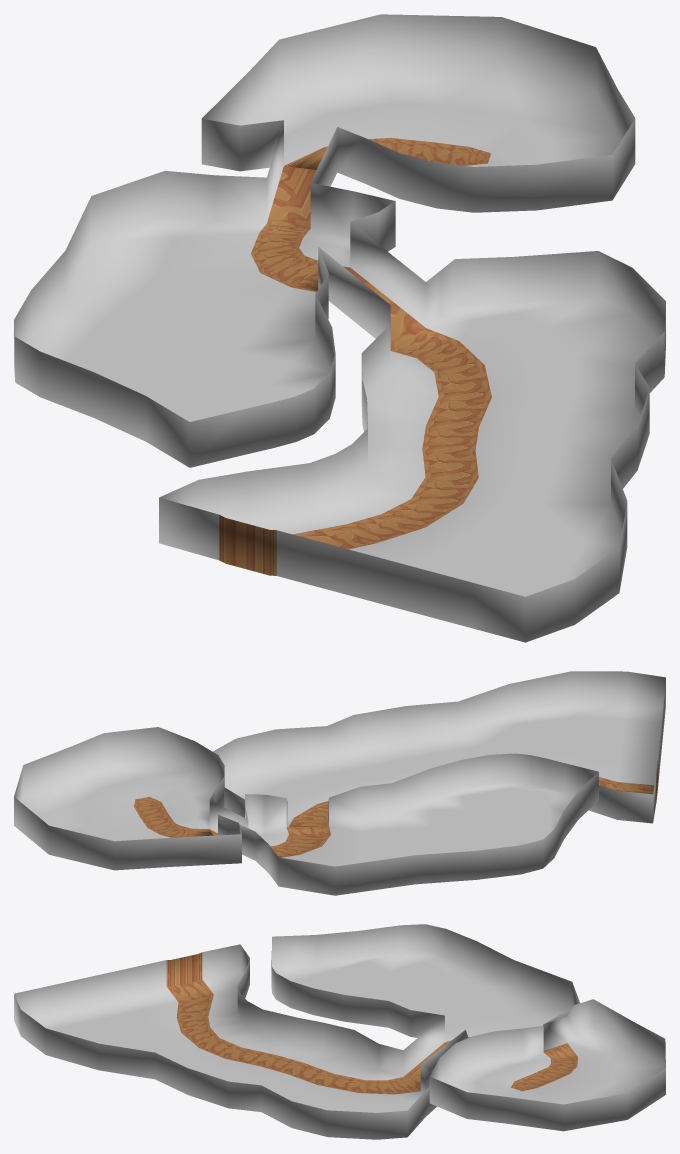
Rendered from terrain_col.obj.
3 renders of one model, top to bottom at view 1: azimuth 30°, elevation 25°; view 2: azimuth 150°, elevation 25°; view 3: azimuth 270°, elevation 25°, orthographic. The views are drawn at different scales.
Visible parts, largest first — view 1: terrain.002; view 2: terrain.002; view 3: terrain.002.
Boxes of the visible parts, x1=… form: terrain.002: x1=14, y1=14, x2=665, y2=642; terrain.002: x1=14, y1=671, x2=665, y2=895; terrain.002: x1=14, y1=924, x2=665, y2=1139.
Bounding box in the file's own units: 32.59 × 5.31 × 44.09.
